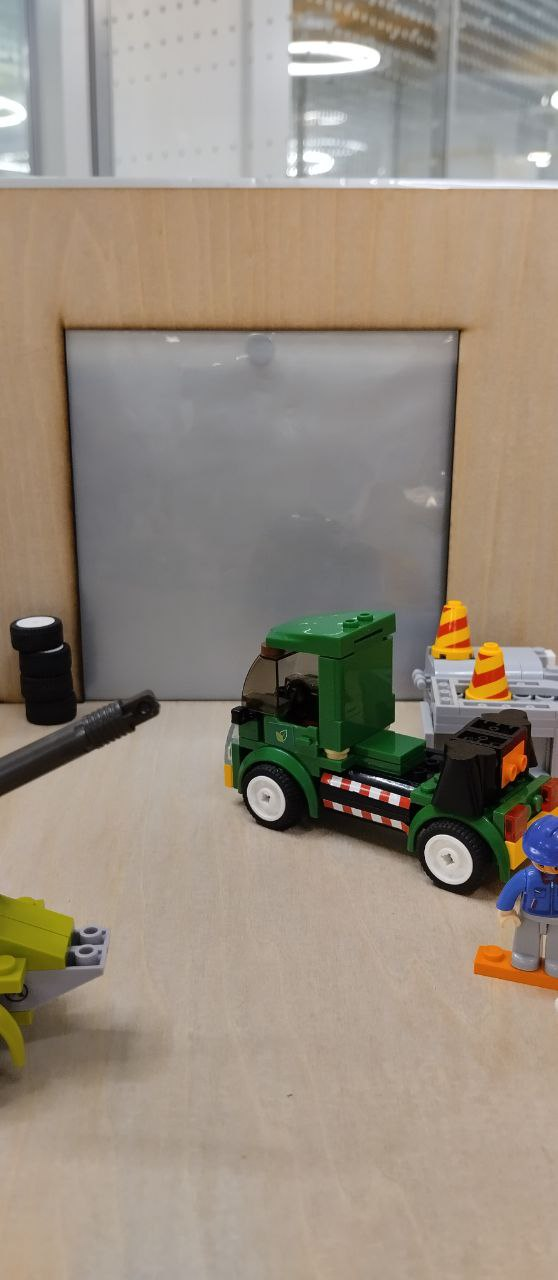Cone: (428, 599, 484, 663), (468, 642, 511, 706)
Object Black: (439, 706, 538, 807)
Truck: (220, 608, 558, 894)
